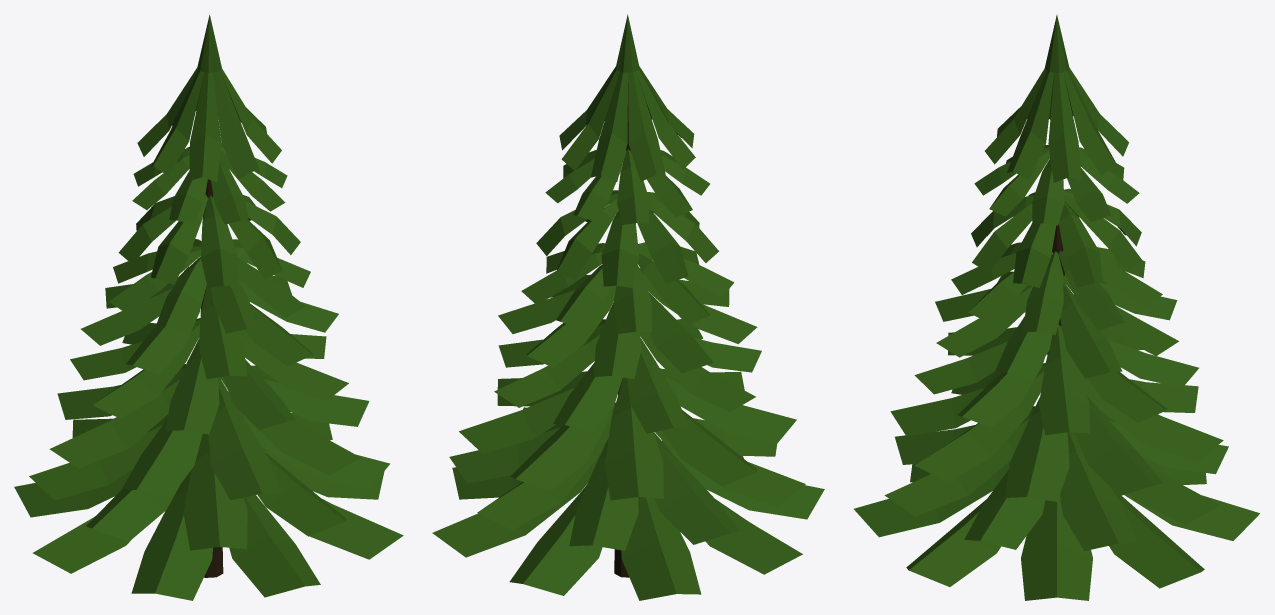
File: Fir_Tree.obj
The picture shows the model from 3 angles, left to right: view 1: azimuth 30°, elevation 25°; view 2: azimuth 150°, elevation 25°; view 3: azimuth 270°, elevation 25°; orthographic projection.
Visible parts, largest first — view 1: Fir-tree_Cylinder.002; view 2: Fir-tree_Cylinder.002; view 3: Fir-tree_Cylinder.002.
Part boxes in pixels (bbox=[...]): Fir-tree_Cylinder.002: bbox=[14, 15, 403, 600]; Fir-tree_Cylinder.002: bbox=[432, 14, 824, 600]; Fir-tree_Cylinder.002: bbox=[854, 15, 1259, 600].
Bounding box in the file's own units: 3.77 × 5.71 × 3.77.
